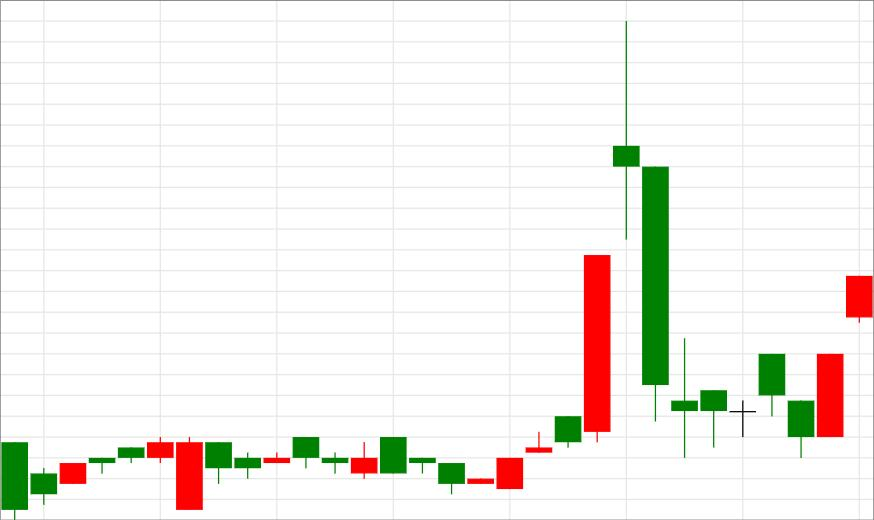evening_star_fall: (496, 22, 669, 490)
